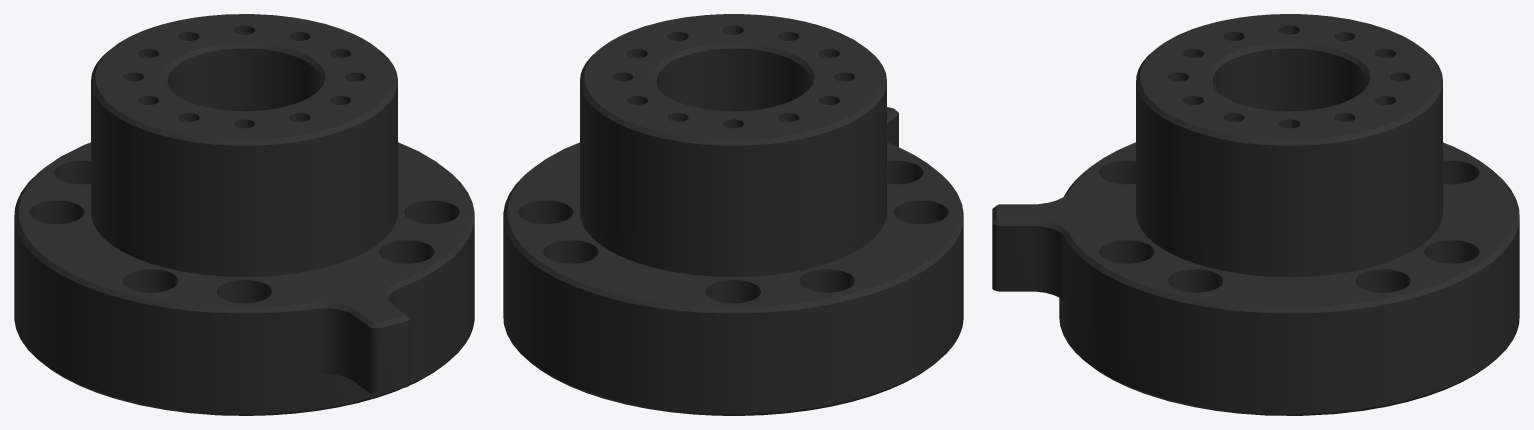
The model's file is armr7.dae.
3 views of the same model, side by side, from view 1: azimuth 30°, elevation 25°; view 2: azimuth 150°, elevation 25°; view 3: azimuth 270°, elevation 25° (orthographic).
Parts seen in each view (by area): view 1: arml7; view 2: arml7; view 3: arml7.
Boxes of the visible parts, bbox=[...] form: arml7: bbox=[14, 14, 474, 415]; arml7: bbox=[503, 14, 963, 415]; arml7: bbox=[992, 14, 1519, 415].
Size of the model in its own units: 0.054 by 0.0619 by 0.0315.
1 material, 1 textured.
